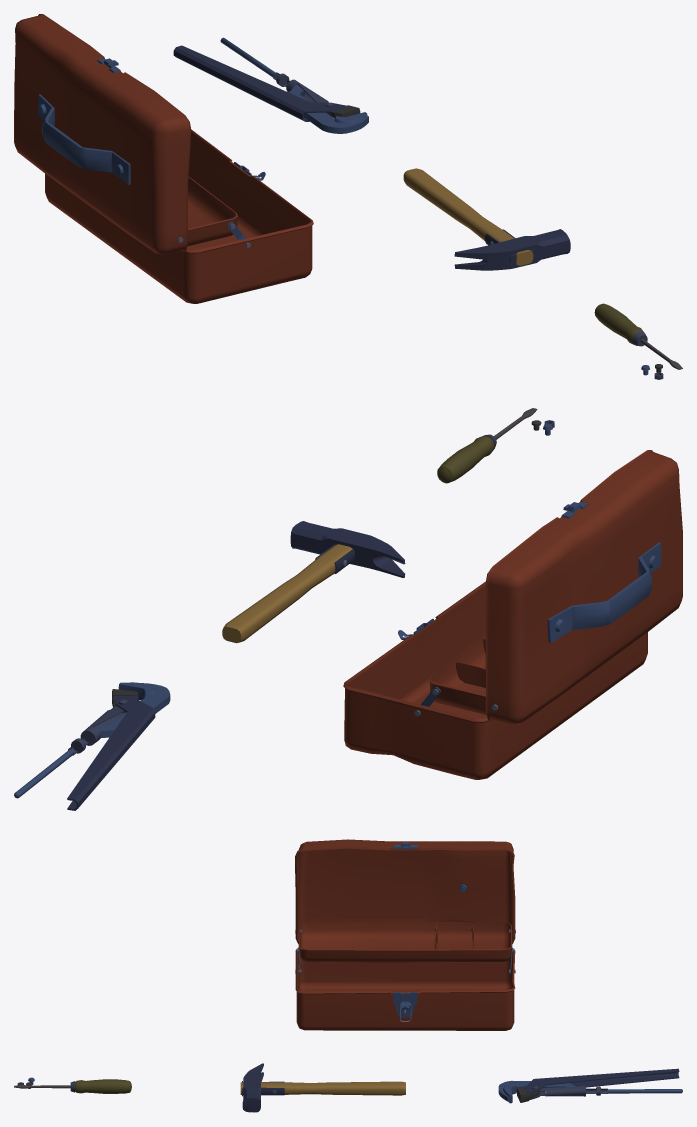
The model's file is toolbox_lowpoly.glb.
3 renders of one model, top to bottom at view 1: azimuth 30°, elevation 25°; view 2: azimuth 150°, elevation 25°; view 3: azimuth 270°, elevation 25°, orthographic. The views are drawn at different scales.
Parts seen in each view (by area): view 1: kryshka_lp, dno_lp, Cube.008, Cube, Cube.004, ruchka_lp, Cube.047, Cube.005, rukoyat_lp; view 2: kryshka_lp, dno_lp, Cube.004, ruchka_lp, Cube, Cube.008, Cube.047, rukoyat_lp, Cube.005, Cube.009, Cube.048; view 3: kryshka_lp, dno_lp, Cube.047, Cube.004, Cube.008, Cube, rukoyat_lp, Cube.005, Cube.046, Cube.009.
Part boxes in pixels (left/top/right/bottom): kryshka_lp: left=14, top=14, right=191, bottom=254; dno_lp: left=45, top=129, right=313, bottom=303; Cube.008: left=173, top=45, right=346, bottom=121; Cube: left=454, top=229, right=570, bottom=270; Cube.004: left=403, top=168, right=533, bottom=265; ruchka_lp: left=37, top=94, right=130, bottom=184; Cube.047: left=187, top=176, right=237, bottom=246; Cube.005: left=289, top=84, right=368, bottom=133; rukoyat_lp: left=594, top=303, right=643, bottom=344; kryshka_lp: left=485, top=450, right=682, bottom=723; dno_lp: left=343, top=581, right=647, bottom=779; Cube.004: left=222, top=544, right=352, bottom=643; ruchka_lp: left=547, top=542, right=661, bottom=643; Cube: left=290, top=521, right=405, bottom=577; Cube.008: left=67, top=696, right=155, bottom=810; Cube.047: left=429, top=635, right=486, bottom=714; rukoyat_lp: left=437, top=436, right=494, bottom=483; Cube.005: left=95, top=682, right=170, bottom=737; Cube.009: left=80, top=705, right=124, bottom=745; Cube.048: left=456, top=638, right=485, bottom=687; kryshka_lp: left=295, top=839, right=515, bottom=943; dno_lp: left=295, top=948, right=515, bottom=1030; Cube.047: left=298, top=921, right=512, bottom=962; Cube.004: left=240, top=1081, right=405, bottom=1095; Cube.008: left=522, top=1068, right=679, bottom=1100; Cube: left=242, top=1063, right=263, bottom=1112; rukoyat_lp: left=75, top=1079, right=131, bottom=1093; Cube.005: left=498, top=1080, right=575, bottom=1103; Cube.046: left=393, top=992, right=417, bottom=1017; Cube.009: left=537, top=1086, right=585, bottom=1096.
Bounding box in the file's own units: 2.27 × 1.08 × 4.52.
